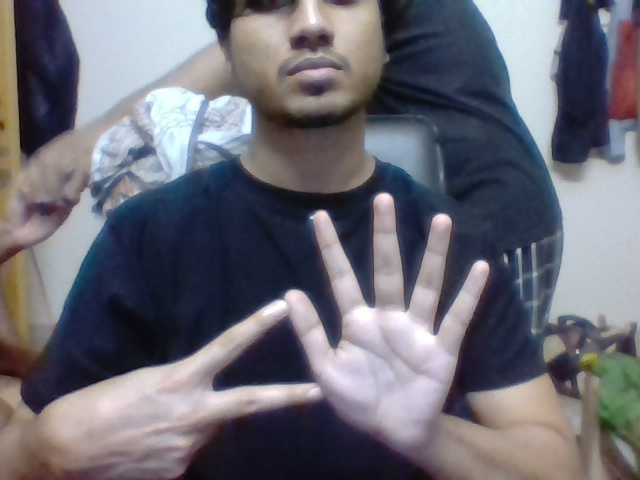N: (174, 297, 287, 426)
